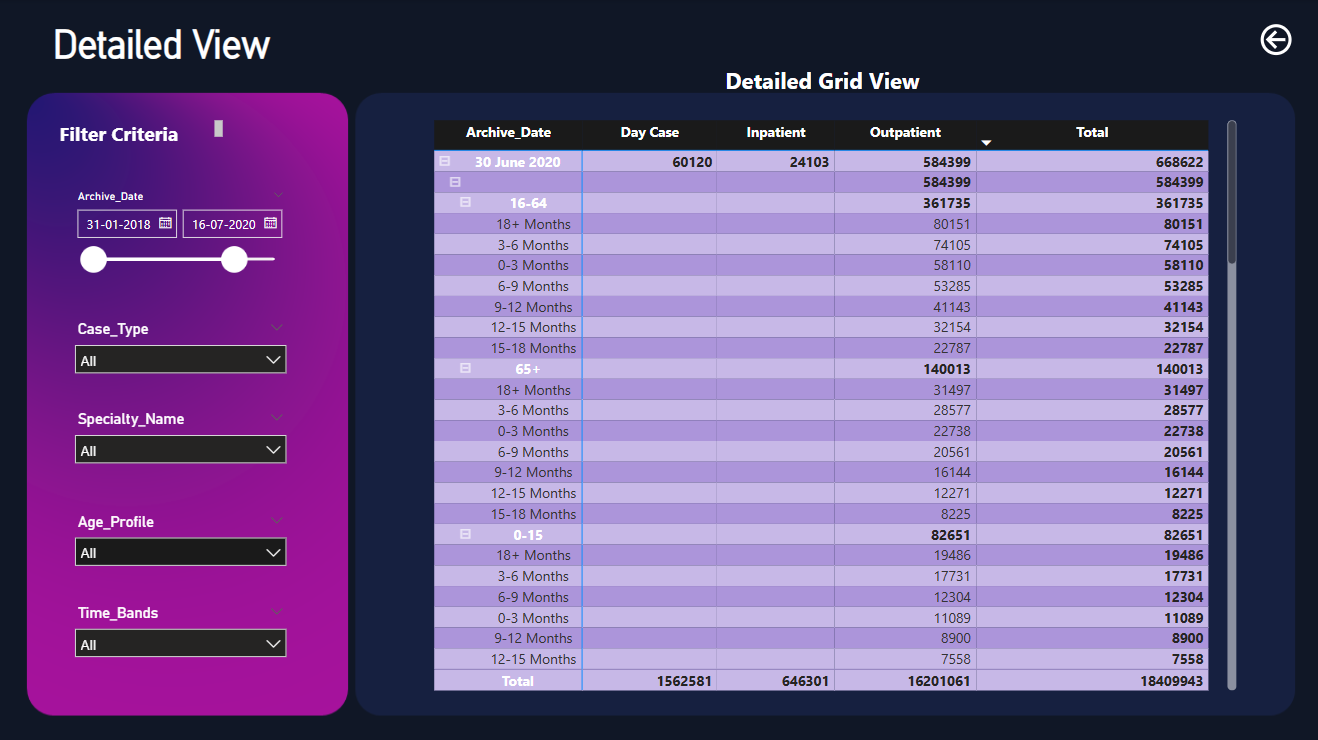

Layout of this report page (visuals, bound fields, positions):
{"tool":"powerbi","page":{"name":"Detail","canvas":[1280,720],"ordinal":1},"visuals":[{"type":"slicer","fields":{"Values":["All_Data.Archive_Date"]},"box":[63.9,178.6,224.4,96.5],"z":0},{"type":"slicer","fields":{"Values":["All_Data.Case_Type"]},"box":[63.9,305.2,224.4,63.9],"z":1000},{"type":"slicer","fields":{"Values":["All_Data.Specialty_Name"]},"box":[63.9,392.1,224.4,63.9],"z":2000},{"type":"textbox","box":[48,16,272,64],"z":3000},{"type":"slicer","fields":{"Values":["All_Data.Age_Profile"]},"box":[63.9,491,224.4,63.9],"z":4000},{"type":"slicer","fields":{"Values":["All_Data.Time_Bands"]},"box":[63.9,579.1,224.4,63.9],"z":5000},{"type":"pivotTable","fields":{"Rows":["All_Data.Archive_Date","All_Data.Specialty_Name","All_Data.Age_Profile","All_Data.Time_Bands"],"Values":["Sum(All_Data.Total)"],"Columns":["All_Data.Case_Type"]},"box":[416,112,784,560],"z":6000},{"type":"textbox","box":[610.5,59.1,370.4,41],"z":7000},{"type":"textbox","box":[19.3,112.2,202.7,30.2],"z":8000},{"type":"actionButton","box":[1213.7,19.3,39.8,39.8],"z":9000}]}

Visuals, with their boxes in screenshot pixels (x1, y1, x2, y2), scaled from the page's 1280x720 canvas onto the 1318x740 screenshot:
slicer - All_Data.Archive_Date: [66,184,297,283]
slicer - All_Data.Case_Type: [66,314,297,379]
slicer - All_Data.Specialty_Name: [66,403,297,469]
textbox: [49,16,330,82]
slicer - All_Data.Age_Profile: [66,505,297,570]
slicer - All_Data.Time_Bands: [66,595,297,661]
pivotTable - All_Data.Archive_Date x All_Data.Specialty_Name: [428,115,1236,691]
textbox: [629,61,1010,103]
textbox: [20,115,229,146]
actionButton: [1250,20,1291,61]
